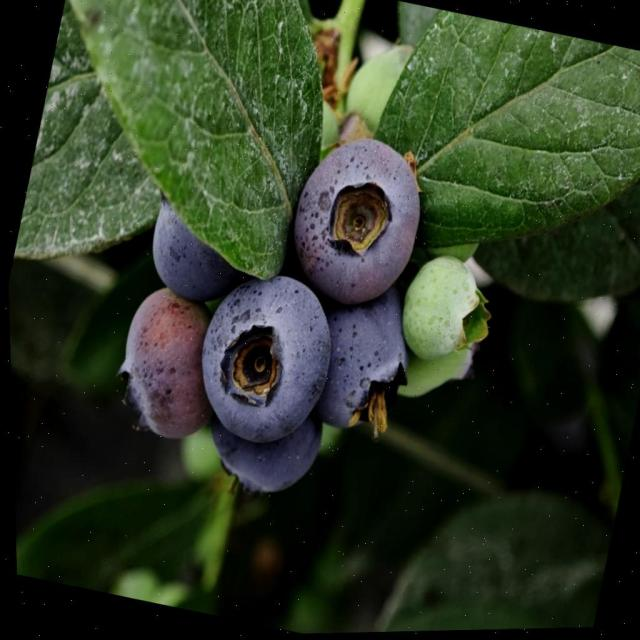RipeBlueBerry: (181, 263, 347, 458), (276, 126, 436, 314)
Semi-RipeBlueBerry: (101, 280, 238, 450)
UnripeBlueBerry: (391, 248, 503, 374)
